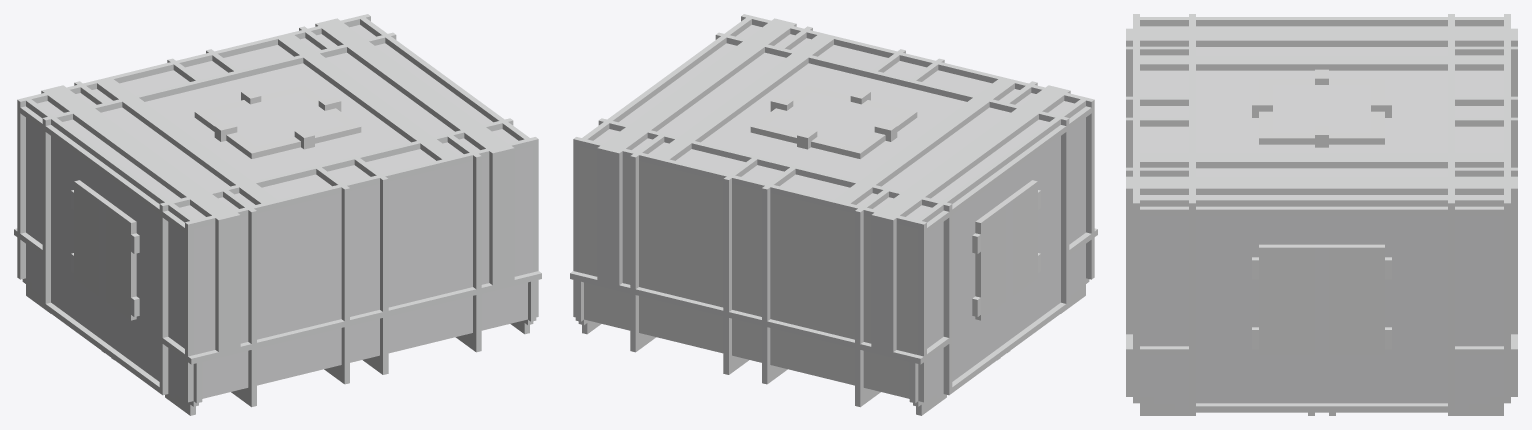
Rendered from storage.obj.
3 renders of one model, left to right at view 1: azimuth 30°, elevation 25°; view 2: azimuth 150°, elevation 25°; view 3: azimuth 270°, elevation 25°, orthographic. The views are drawn at different scales.
Size of the model in its own units: 6.4 by 3.5 by 5.6.
